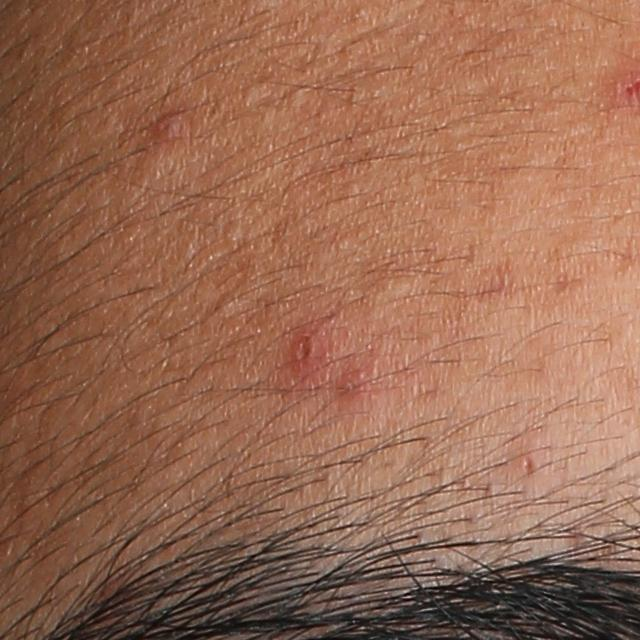comedo: (239, 78, 266, 108), (380, 276, 413, 300)
papule: (288, 325, 333, 374)
